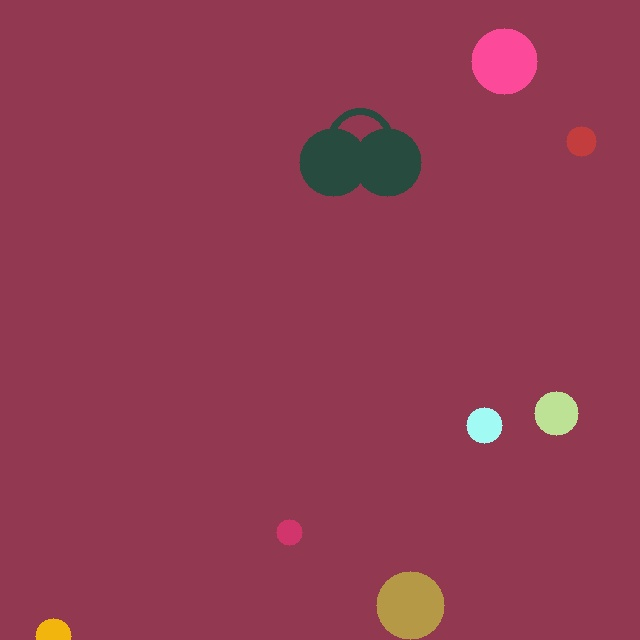over_ear: (295, 107, 425, 200)
